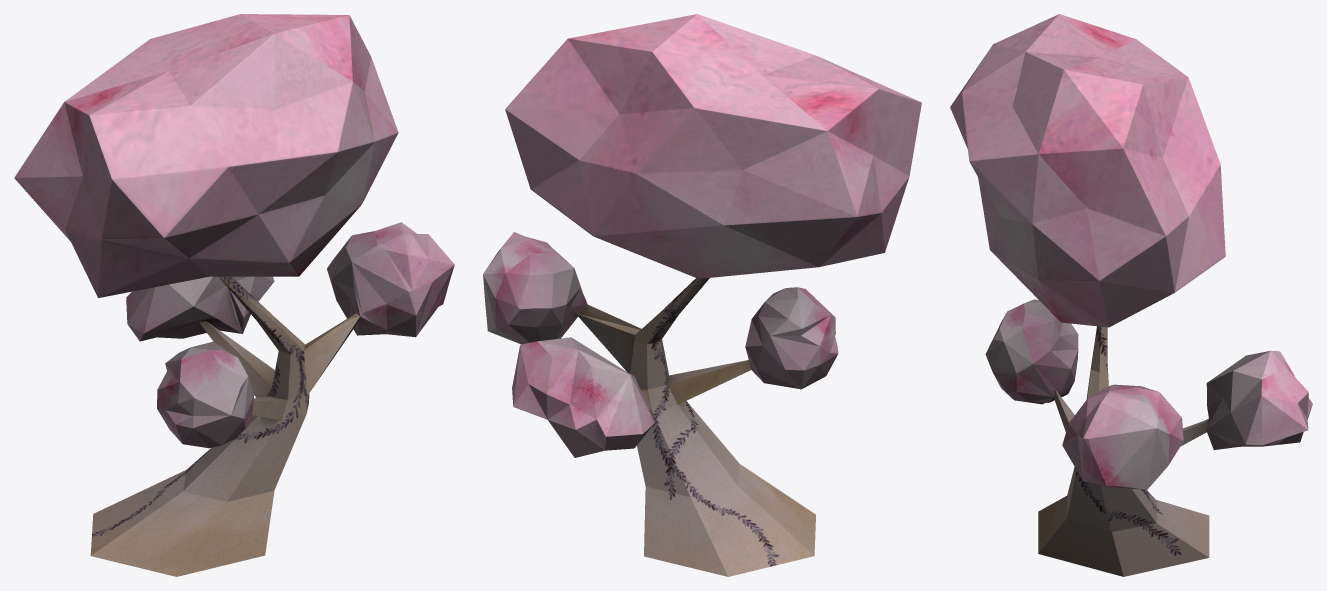
File: Sakura_tree.fbx
3 renders of one model, left to right at view 1: azimuth 30°, elevation 25°; view 2: azimuth 150°, elevation 25°; view 3: azimuth 270°, elevation 25°, orthographic. The views are drawn at different scales.
Visible parts, largest first — view 1: Low_Poly_Enviroment_0021:pCube7; view 2: Low_Poly_Enviroment_0021:pCube7; view 3: Low_Poly_Enviroment_0021:pCube7.
Part boxes in pixels (x1,y1,x2,y2): Low_Poly_Enviroment_0021:pCube7: [14, 14, 454, 576]; Low_Poly_Enviroment_0021:pCube7: [483, 14, 921, 576]; Low_Poly_Enviroment_0021:pCube7: [950, 14, 1312, 576].
Size of the model in its own units: 4.74 by 5.68 by 3.76.
